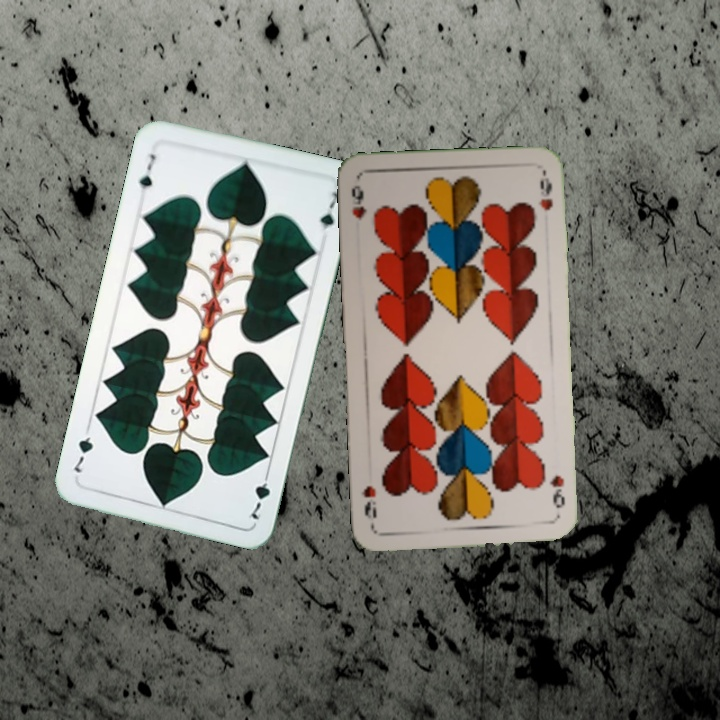G7: (244, 466, 273, 523), (134, 149, 158, 192)
H9: (347, 181, 369, 222), (546, 471, 568, 511)
